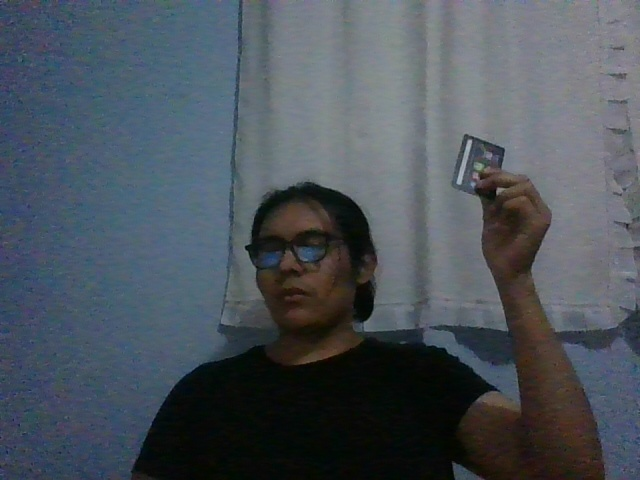tarjeta: (450, 133, 505, 201)
